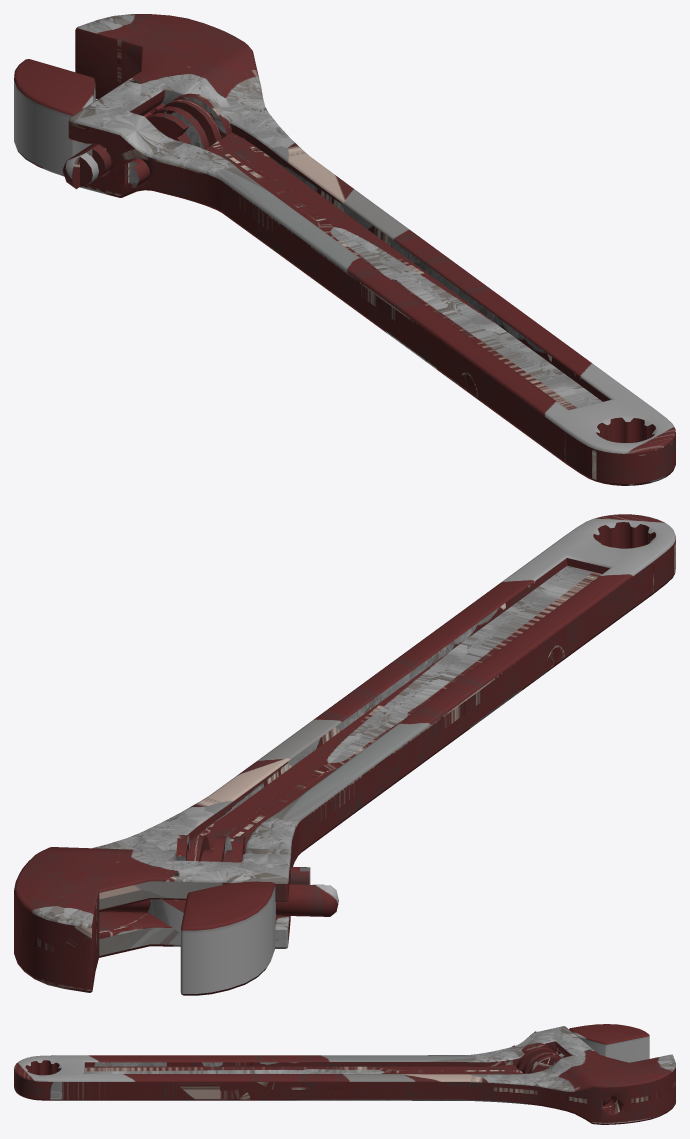
Rendered from Wrench.obj.
The picture shows the model from 3 angles, top to bottom: view 1: azimuth 30°, elevation 25°; view 2: azimuth 150°, elevation 25°; view 3: azimuth 270°, elevation 25°; orthographic projection. The views are drawn at different scales.
Visible parts, largest first — view 1: Wrench:Wrench; view 2: Wrench:Wrench; view 3: Wrench:Wrench.
Boxes of the visible parts, bbox=[...] form: Wrench:Wrench: bbox=[14, 14, 675, 485]; Wrench:Wrench: bbox=[14, 514, 675, 995]; Wrench:Wrench: bbox=[14, 1024, 675, 1124].
Size of the model in its own units: 0.2171 by 0.0637 by 0.8915.
Materials: 1 (1 with a texture image).
